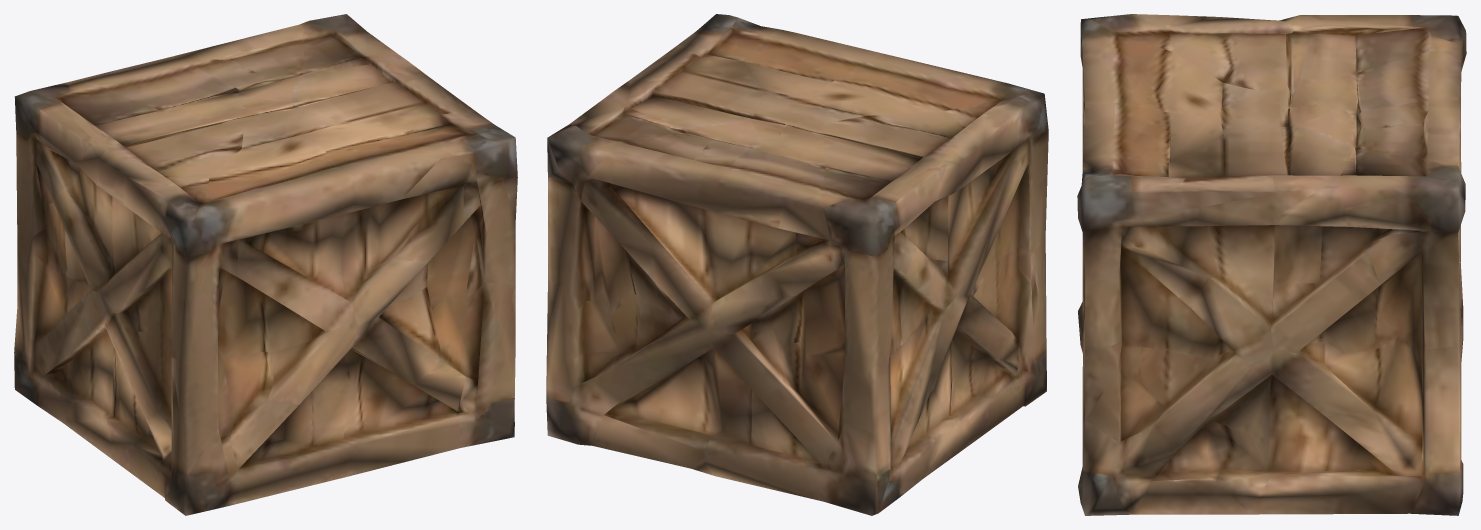
File: crate.lod2.glb
The picture shows the model from 3 angles, left to right: view 1: azimuth 30°, elevation 25°; view 2: azimuth 150°, elevation 25°; view 3: azimuth 270°, elevation 25°; orthographic projection. The views are drawn at different scales.
Parts seen in each view (by area): view 1: tripo_node_6bb3cd77-2008-4abe-96fb-486569e49719; view 2: tripo_node_6bb3cd77-2008-4abe-96fb-486569e49719; view 3: tripo_node_6bb3cd77-2008-4abe-96fb-486569e49719.
Boxes of the visible parts, left/top/right/bottom form: tripo_node_6bb3cd77-2008-4abe-96fb-486569e49719: left=14, top=14, right=517, bottom=515; tripo_node_6bb3cd77-2008-4abe-96fb-486569e49719: left=546, top=14, right=1048, bottom=515; tripo_node_6bb3cd77-2008-4abe-96fb-486569e49719: left=1077, top=14, right=1466, bottom=515.
Size of the model in its own units: 0.6947 by 0.5981 by 0.6321.
1 material, 1 textured.
